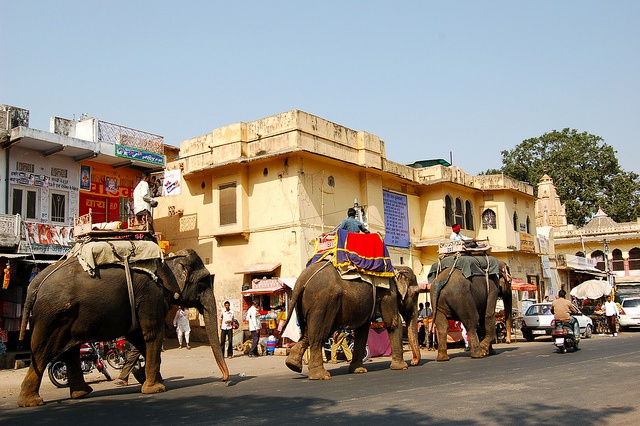non-vehicle: (47, 342, 112, 389), (549, 318, 580, 353)
